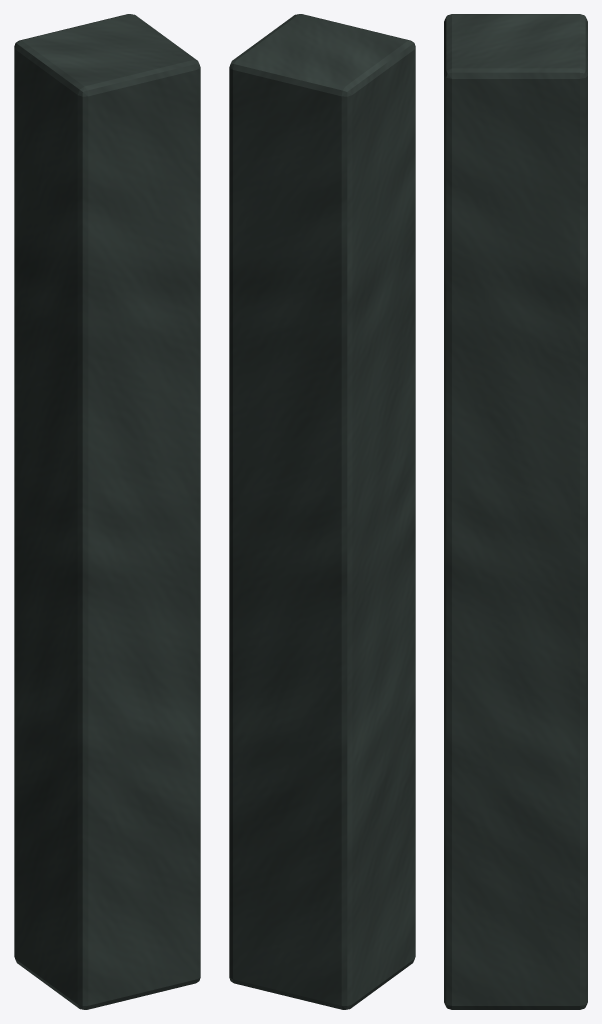
Rendered from lf_post-lod0.gltf.
3 views of the same model, side by side, from view 1: azimuth 30°, elevation 25°; view 2: azimuth 150°, elevation 25°; view 3: azimuth 270°, elevation 25° (orthographic).
Visible parts, largest first — view 1: lf_post LOD0 lf_post; view 2: lf_post LOD0 lf_post; view 3: lf_post LOD0 lf_post.
Boxes of the visible parts, x1,y1,x2,y2 form: lf_post LOD0 lf_post: (14,14,200,1009); lf_post LOD0 lf_post: (229,14,415,1009); lf_post LOD0 lf_post: (444,14,587,1009).
Bounding box in the file's own units: 0.18 × 1.3 × 0.18.
Materials: 1 (1 with a texture image).
